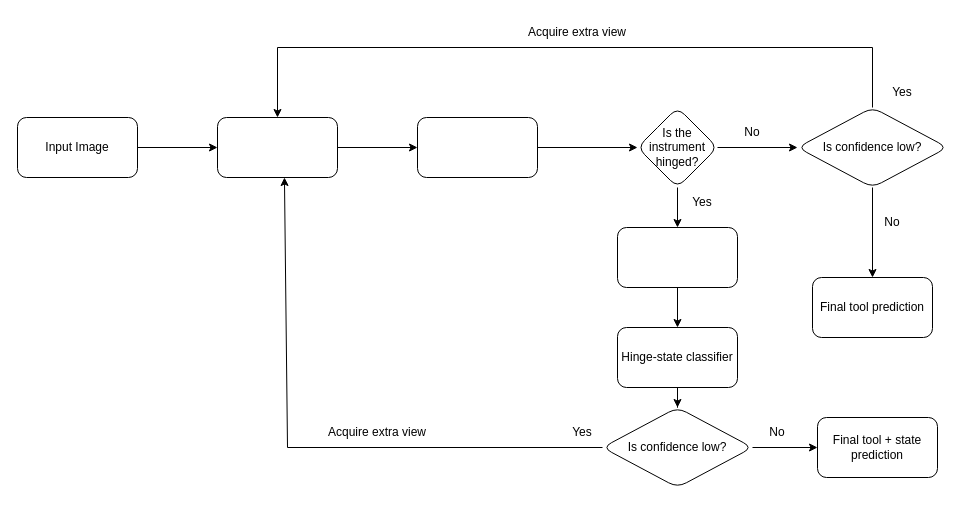
Some shapes in this 965 by 505 pixel diagram are drawn without their labels. The shapes that lost their labels are listed below. From the top down, each one's box as (x1, y1, x2, y2) in pixels, then its label:
(216, 116, 338, 178): YOLO26 detector
(416, 116, 538, 178): Tool class + bounding box
(616, 226, 738, 288): Crop detected tool
